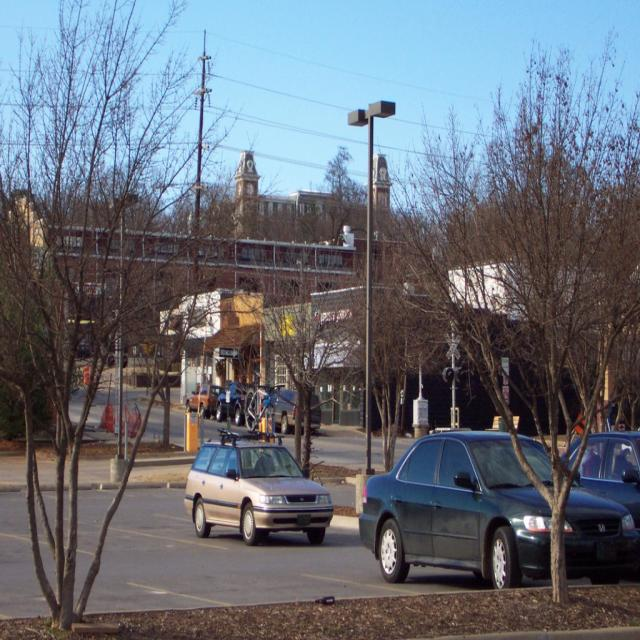car: (181, 437, 337, 549)
